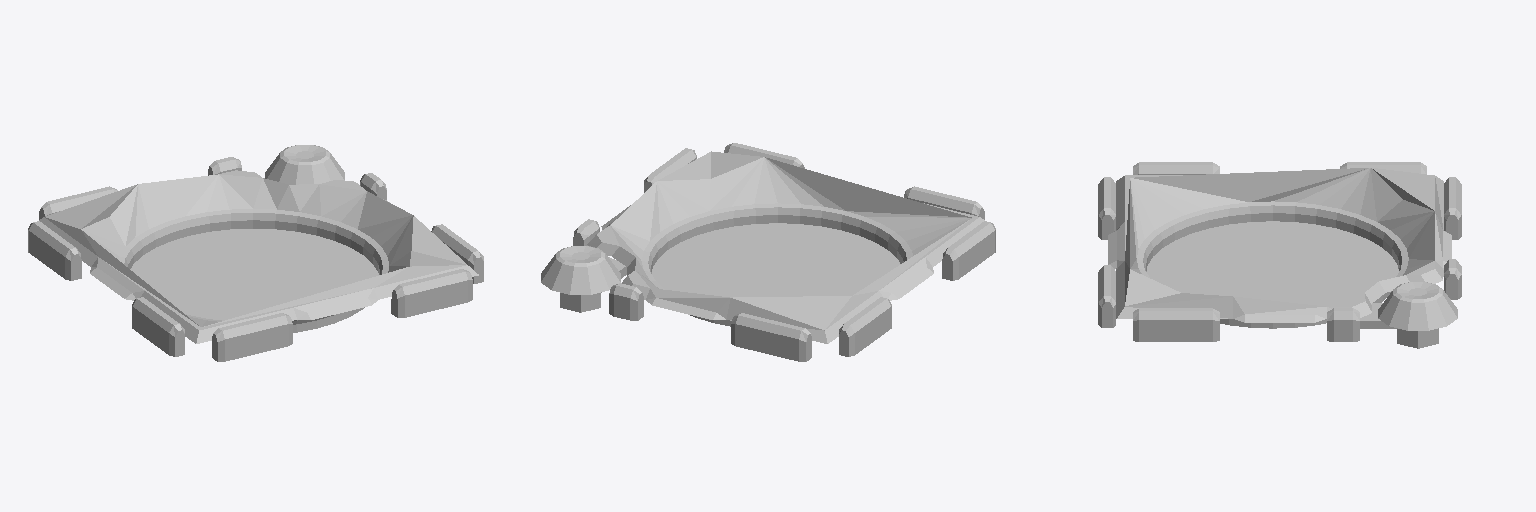
The model's file is ModelComponent.obj.
3 renders of one model, left to right at view 1: azimuth 30°, elevation 25°; view 2: azimuth 150°, elevation 25°; view 3: azimuth 270°, elevation 25°, orthographic.
Visible parts, largest first — view 1: ModelComponent; view 2: ModelComponent; view 3: ModelComponent.
Boxes of the visible parts, <box> form: ModelComponent: <box>28,145,483,361</box>; ModelComponent: <box>541,143,995,361</box>; ModelComponent: <box>1098,162,1461,348</box>.
Bounding box in the file's own units: 2 × 0.3048 × 2.